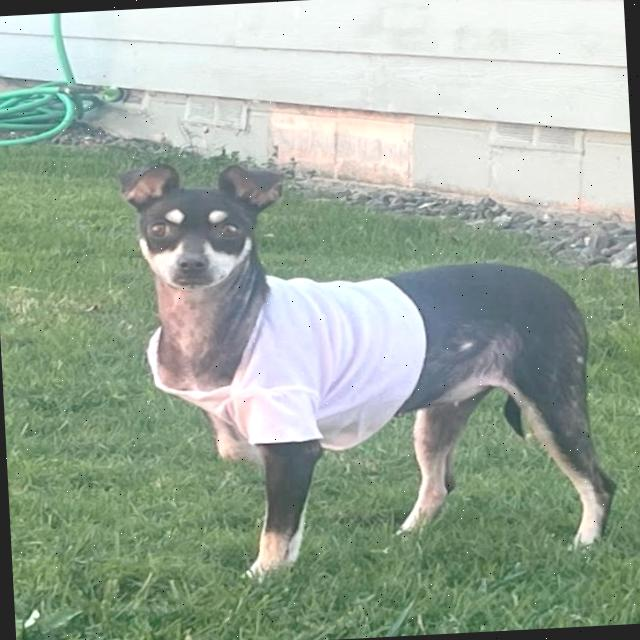chihuahua_dog: (102, 147, 310, 306)
